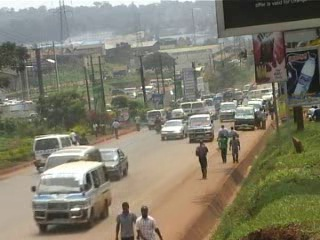Car: (94, 143, 131, 180), (158, 119, 188, 143), (168, 106, 187, 120)
Motorcycle: (150, 115, 162, 133)
